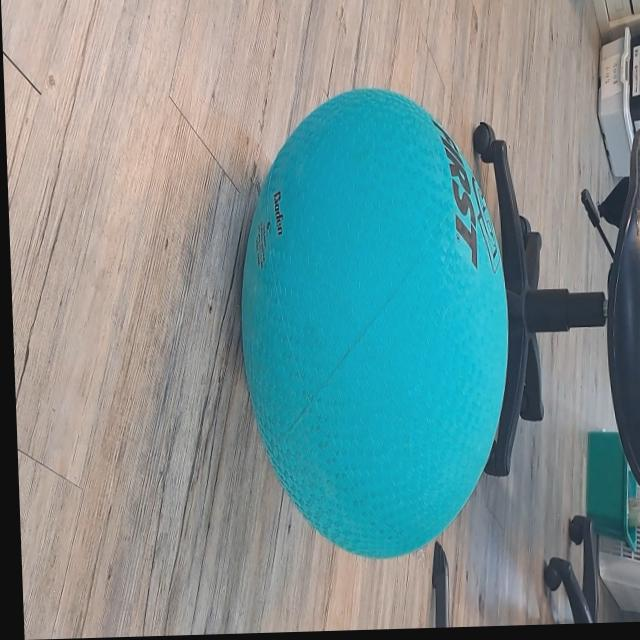ALGAE: (230, 82, 518, 564)
